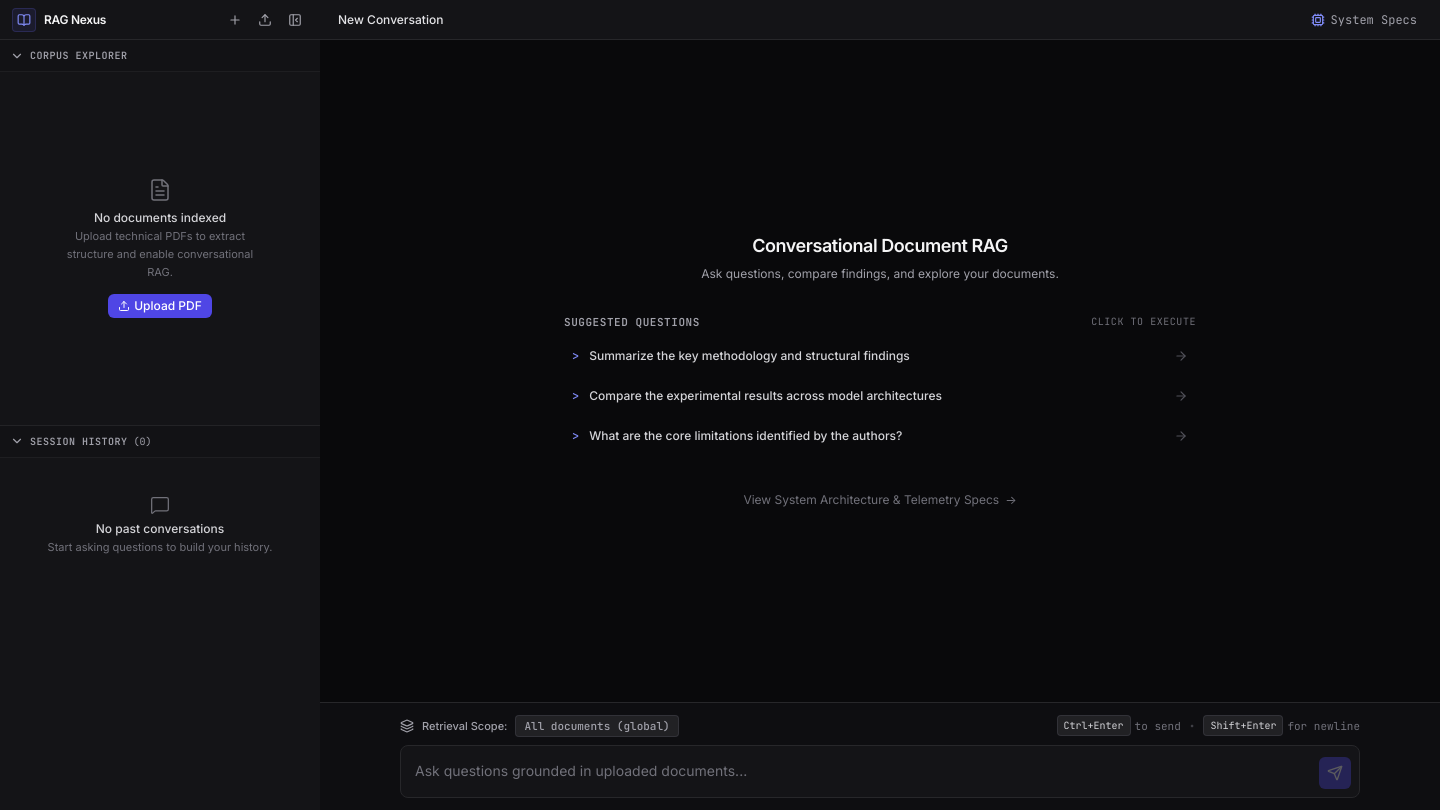
it: App Integration (Document Management & Conversation Sessions) › toggles collapsible sidebar when sidebar button is clicked
The image size is (1440, 810).
Click the button named "collapse documents tray" at (295, 20), box top-left (282, 6), bottom-right (308, 32)
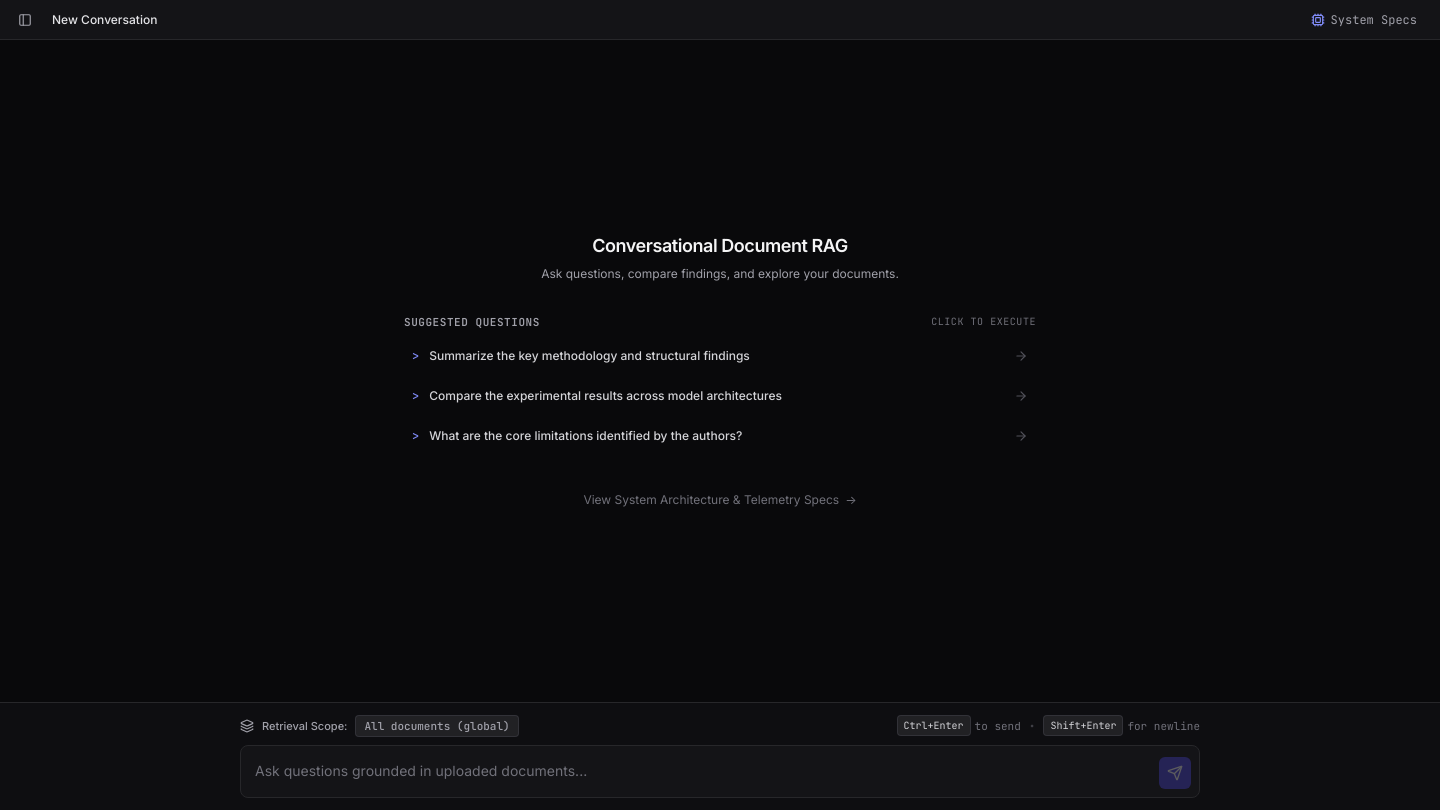
Result: the button named "expand documents tray" is shown at top-left (12, 6), bottom-right (38, 32)
